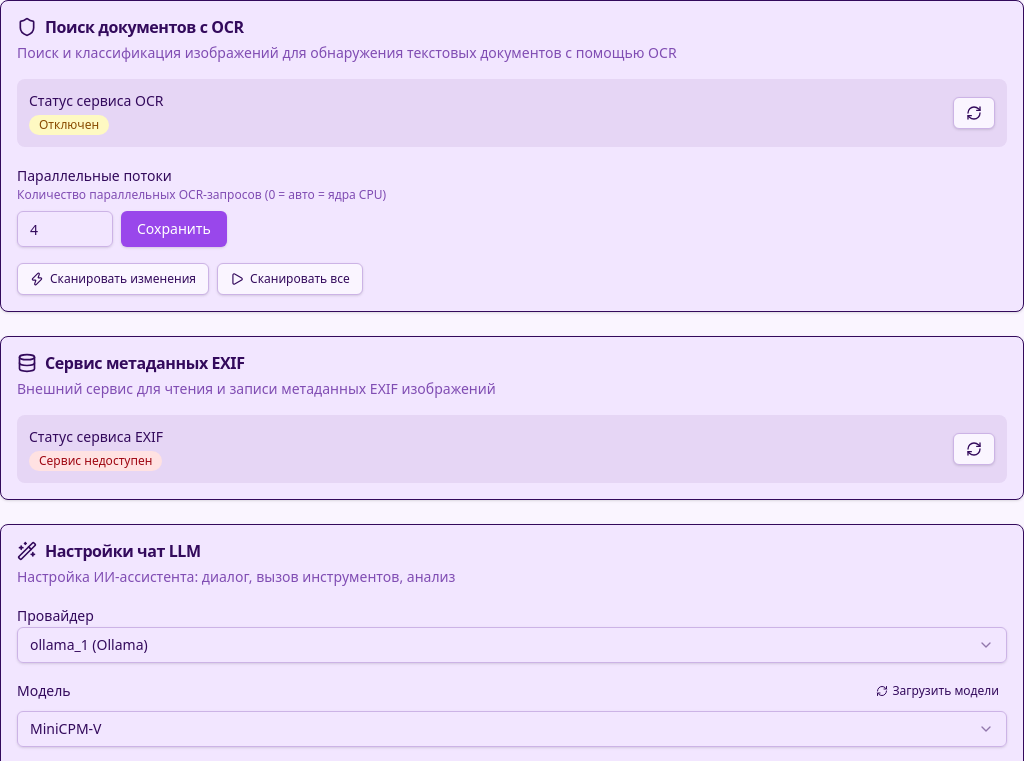
Test: AdminAnalysisTab › shows the no-match message in Russian
Click the dropdown labelled "MiniCPM-V" at (66, 728), box [17,711,1007,747]
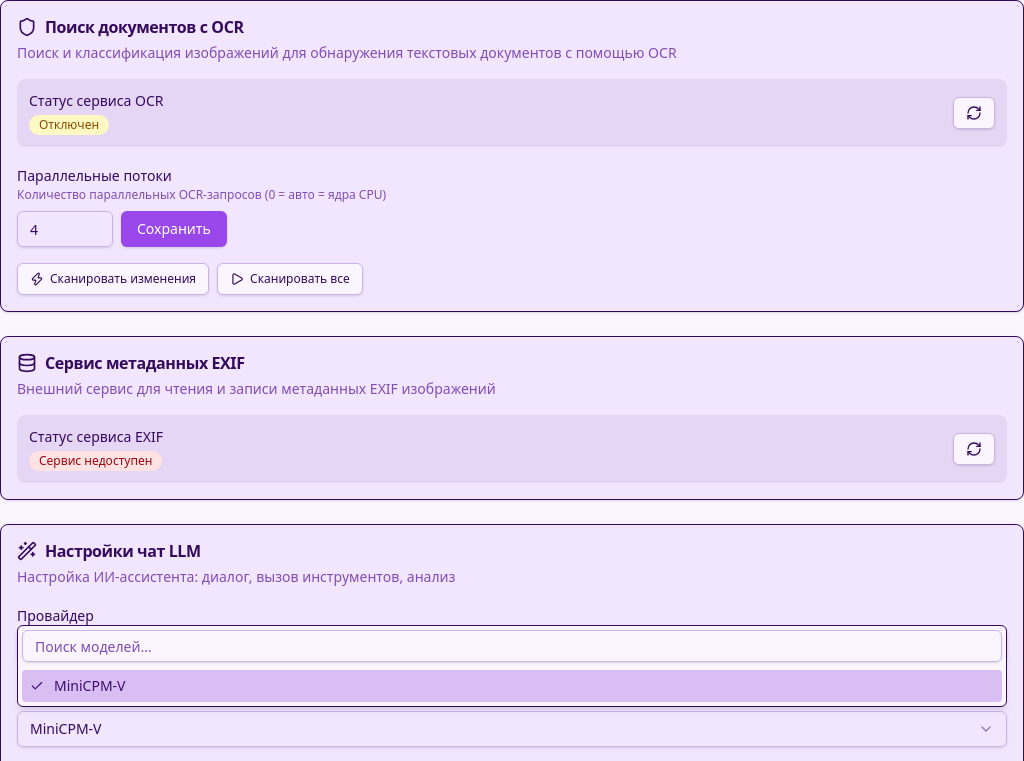
Type "zzz" into the field labelled "Поиск моделей…" at (512, 646), box [22,630,1002,662]
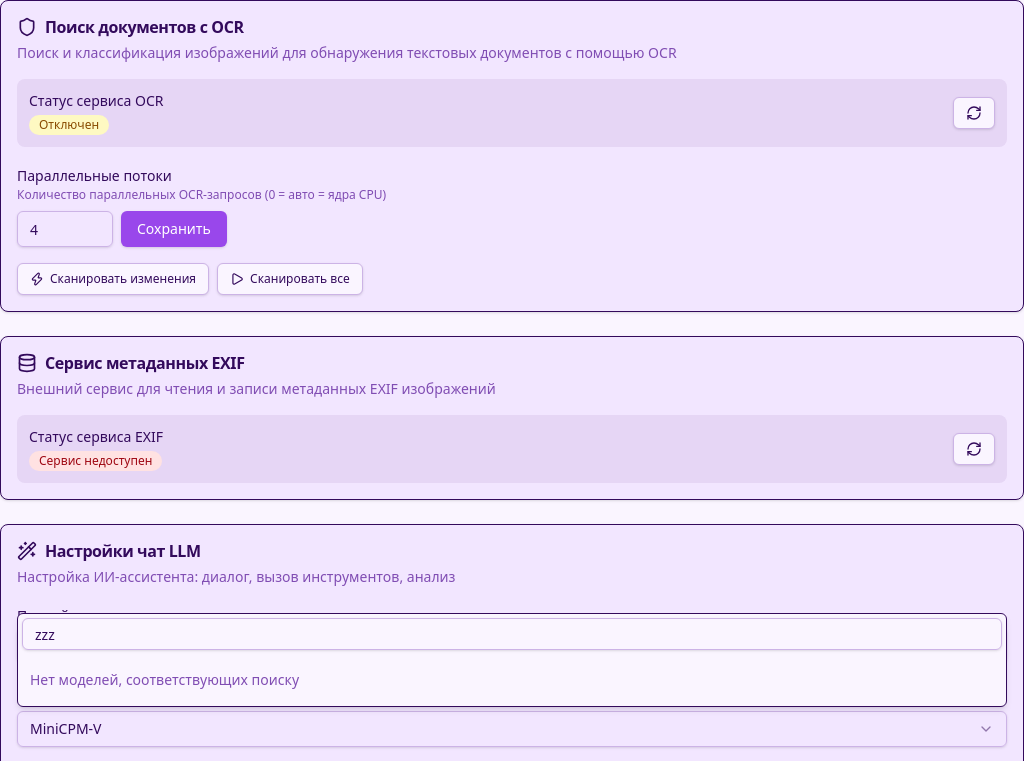
Result: the text "Нет моделей, соответствующих поиску" is shown at [30,670,299,689]
